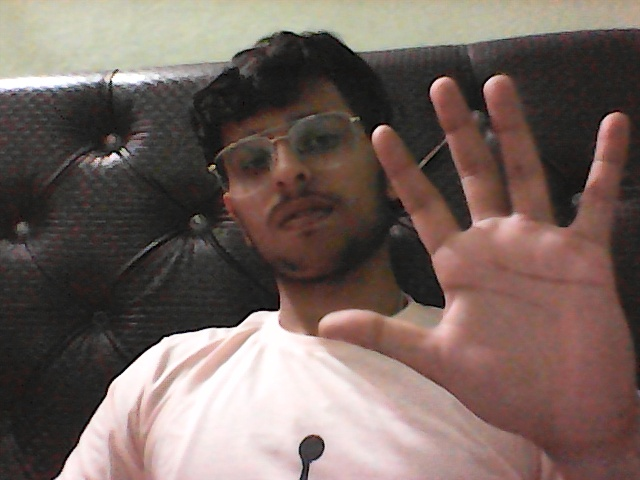hello: (294, 44, 640, 480)
